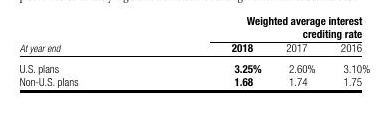table: (0, 0, 387, 113)
